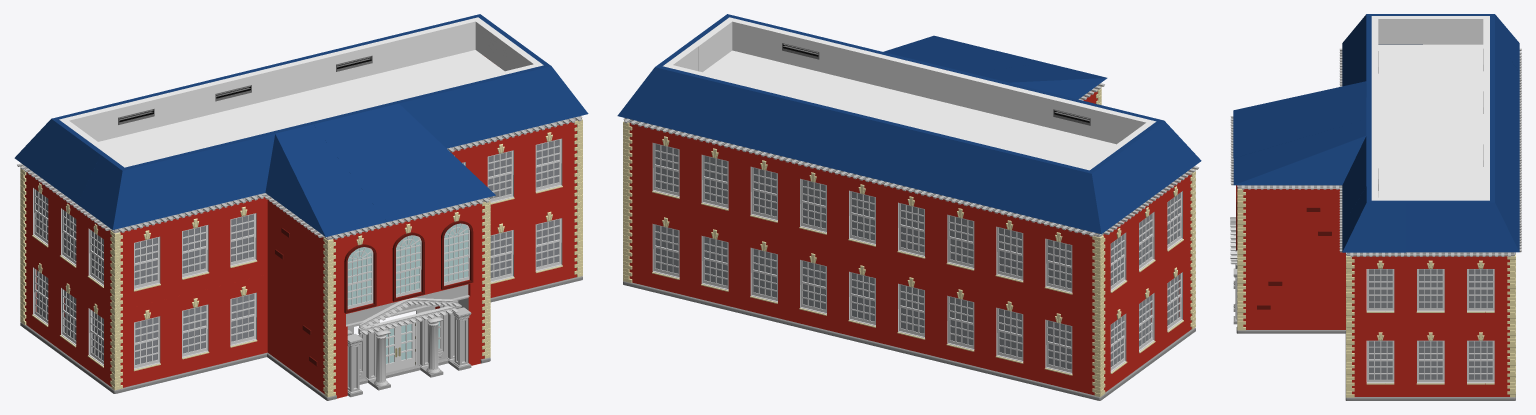
The model's file is HistoriaLevel3.fbx.
The picture shows the model from 3 angles, left to right: view 1: azimuth 30°, elevation 25°; view 2: azimuth 150°, elevation 25°; view 3: azimuth 270°, elevation 25°; orthographic projection. The views are drawn at different scales.
Visible parts, largest first — view 1: LajeChao.001, TelhadoCantoBase.002, ParedeJanelaRodape, ParedeJanelaMeio.005, ParedeJanelaGrande, TelhadoCantoBase.001, TelhadoMeioBase, ParedeJanelaMeio.004, TelhadoCantoBase.009, ParedeJanelaRodape.001, ParedeJanelaMeio.001, ParedeLisaRodape.001 (+56 smaller); view 2: ParedeJanelaRodape.002, ParedeJanelaMeio.002, TelhadoMeioBase.005, LajeChao.001, CortinaJanelaRodape.002, CortinaJanelaMeio.002, LajeMeioCanto.002, JanelaMediaRodape.002, JanelaMediaMeio.002, TelhadoCantoBase.010, ParedeJanelaRodape.001, ParedeJanelaMeio.001 (+26 smaller); view 3: LajeChao.001, ParedeJanelaRodape.003, ParedeJanelaMeio.003, ParedeLisaRodape.002, ParedeLisaMeio.002, TelhadoCantoBase.001, TelhadoMeioBase.005, TelhadoCantoBase.011, TelhadoCantoBase.008, TelhadoCantoBase.002, TelhadoMeioBase, TelhadoMeioBase.004 (+27 smaller).
Part boxes in pixels (left/top/right/bottom): LajeChao.001: left=98, top=50, right=504, bottom=163; TelhadoCantoBase.002: left=265, top=122, right=386, bottom=236; ParedeJanelaRodape: left=123, top=274, right=267, bottom=387; ParedeJanelaMeio.005: left=123, top=197, right=267, bottom=309; ParedeJanelaGrande: left=336, top=203, right=480, bottom=316; TelhadoCantoBase.001: left=359, top=101, right=495, bottom=210; TelhadoMeioBase: left=310, top=110, right=434, bottom=221; ParedeJanelaMeio.004: left=450, top=122, right=573, bottom=219; TelhadoCantoBase.009: left=77, top=153, right=173, bottom=229; ParedeJanelaRodape.001: left=26, top=247, right=110, bottom=385; ParedeJanelaMeio.001: left=26, top=171, right=110, bottom=307; ParedeLisaRodape.001: left=267, top=275, right=323, bottom=392; ParedeJanelaRodape.002: left=641, top=205, right=1083, bottom=392; ParedeJanelaMeio.002: left=641, top=126, right=1083, bottom=312; TelhadoMeioBase.005: left=687, top=76, right=1047, bottom=216; LajeChao.001: left=703, top=50, right=1115, bottom=165; CortinaJanelaRodape.002: left=655, top=225, right=1071, bottom=369; CortinaJanelaMeio.002: left=655, top=144, right=1071, bottom=288; LajeMeioCanto.002: left=825, top=41, right=1050, bottom=127; JanelaMediaRodape.002: left=652, top=224, right=1072, bottom=373; JanelaMediaMeio.002: left=653, top=143, right=1072, bottom=292; TelhadoCantoBase.010: left=1031, top=156, right=1136, bottom=234; ParedeJanelaRodape.001: left=1104, top=252, right=1189, bottom=391; ParedeJanelaMeio.001: left=1104, top=174, right=1189, bottom=312; LajeChao.001: left=1378, top=44, right=1483, bottom=197; ParedeJanelaRodape.003: left=1355, top=326, right=1505, bottom=396; ParedeJanelaMeio.003: left=1355, top=256, right=1505, bottom=326; ParedeLisaRodape.002: left=1246, top=259, right=1346, bottom=329; ParedeLisaMeio.002: left=1246, top=189, right=1345, bottom=259; TelhadoCantoBase.001: left=1233, top=119, right=1371, bottom=185; TelhadoMeioBase.005: left=1490, top=33, right=1519, bottom=221; TelhadoCantoBase.011: left=1456, top=182, right=1519, bottom=252; TelhadoCantoBase.008: left=1342, top=186, right=1405, bottom=252; TelhadoCantoBase.002: left=1233, top=81, right=1371, bottom=136; TelhadoMeioBase: left=1233, top=97, right=1371, bottom=158; TelhadoMeioBase.004: left=1405, top=200, right=1455, bottom=252.
Bounding box in the file's own units: 993 × 416 × 579.
